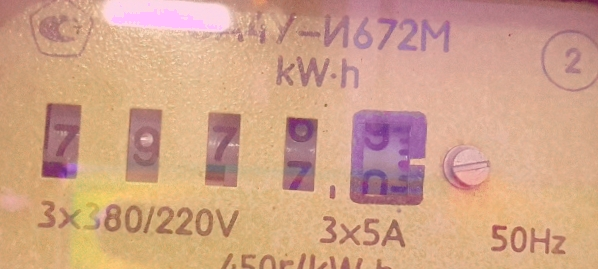0: (358, 162, 391, 202)
7: (48, 119, 80, 162), (207, 121, 239, 164), (283, 156, 314, 193)
9: (128, 122, 163, 168), (361, 115, 393, 152)
screen: (20, 79, 452, 228)
